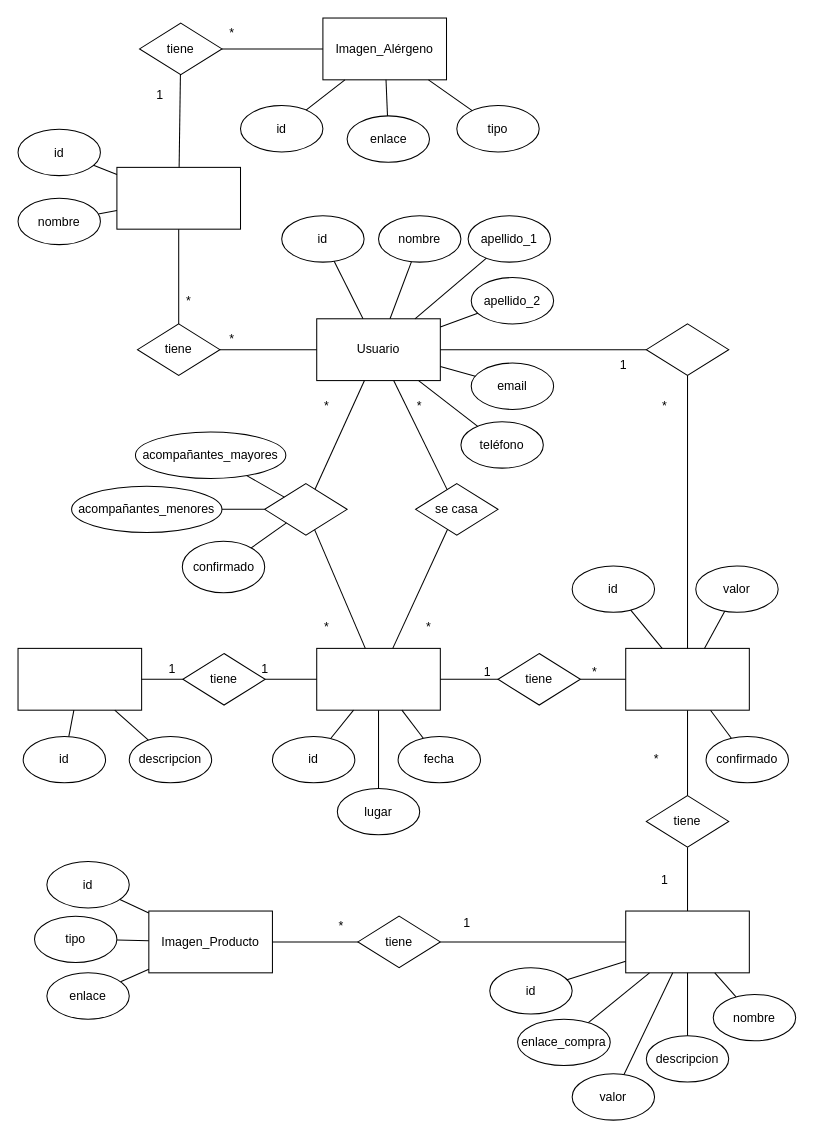
Some shapes in this 814 by 1138 pixel diagram are drawn without their labels. Here are the shapes that lost their labels. From the top down, the centre of each, then its label:
At (x=178, y=197): "Alérgeno".
At (x=687, y=349): "hace".
At (x=305, y=509): "es invitado".
At (x=79, y=678): "Itinerario".
At (x=378, y=678): "Boda".
At (x=687, y=678): "Regalo_Boda".
At (x=687, y=941): "Producto".
